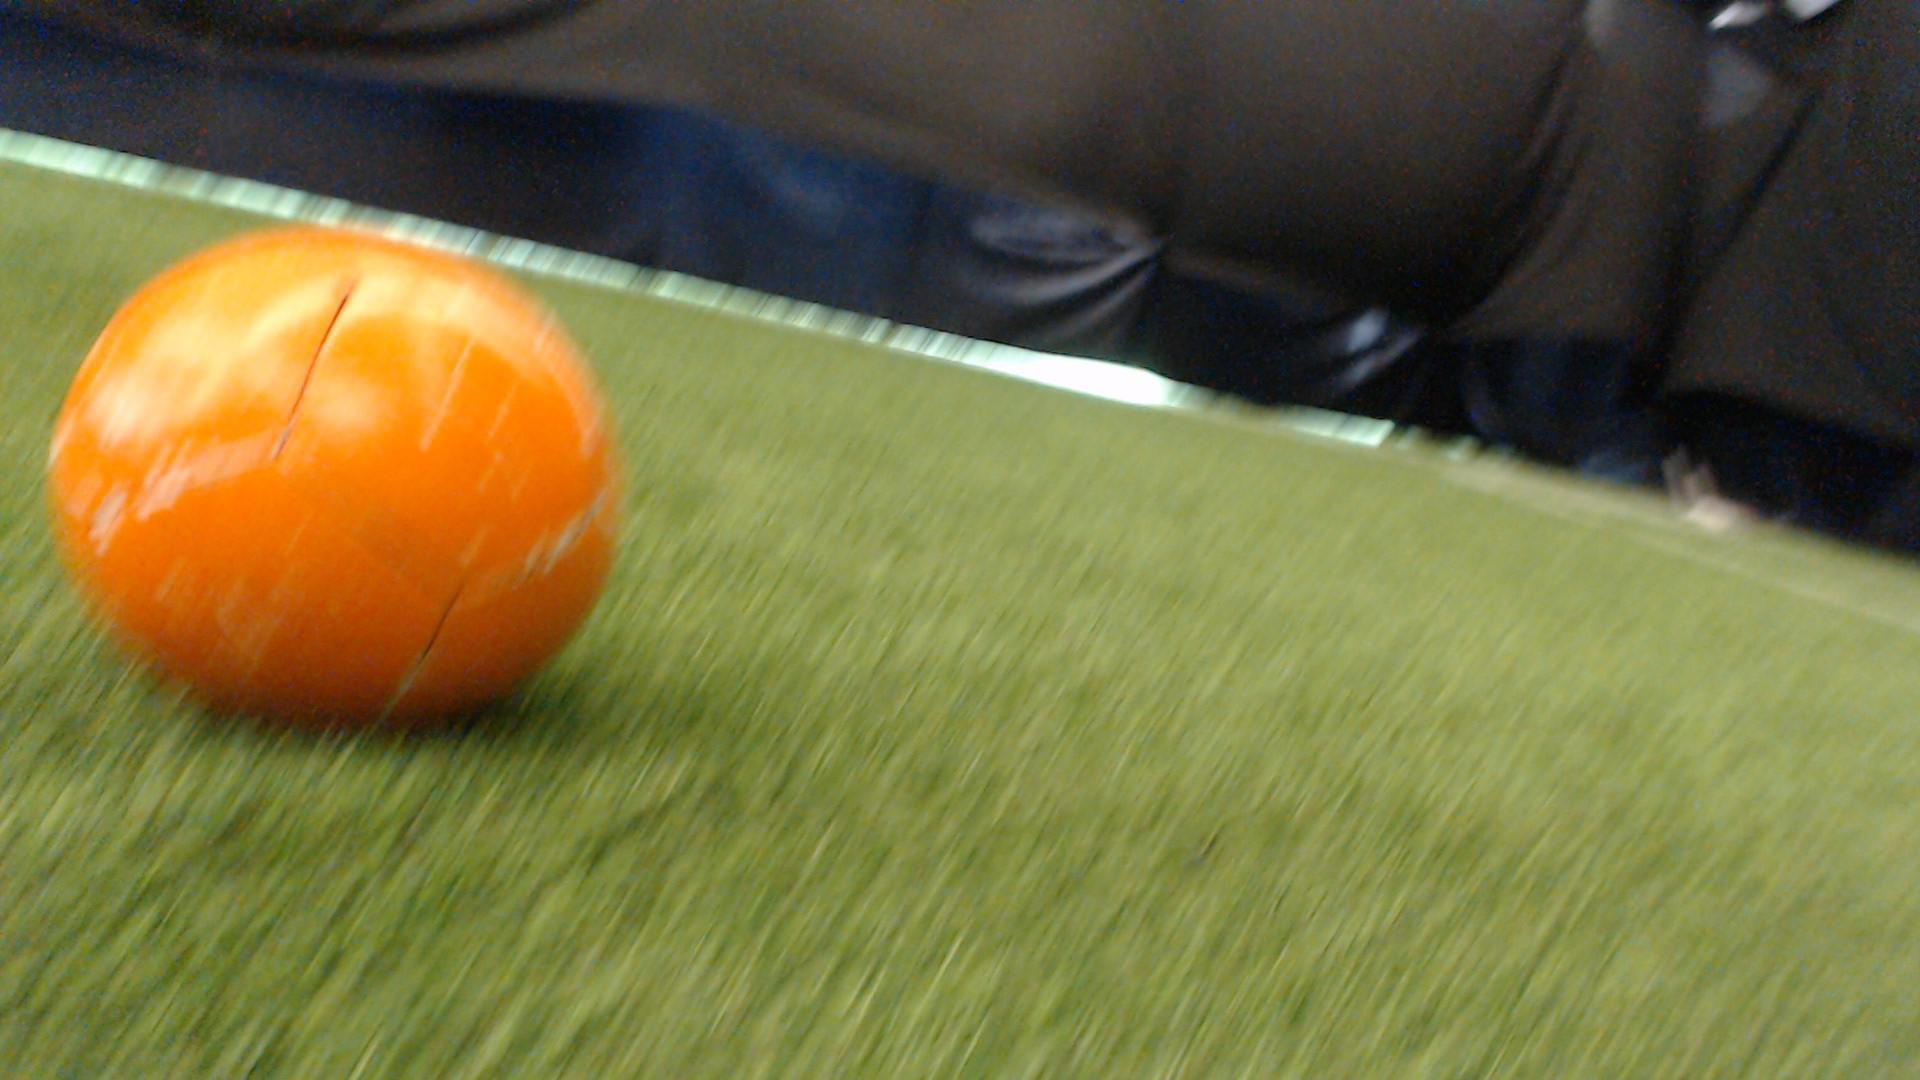bola: (34, 208, 661, 741)
